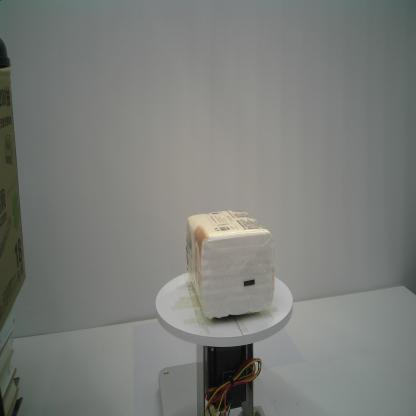Tissue: (185, 209, 277, 321)
